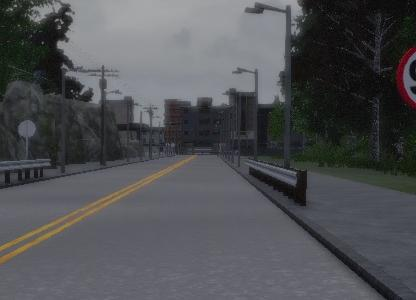Speed_90: (397, 40, 416, 115)
